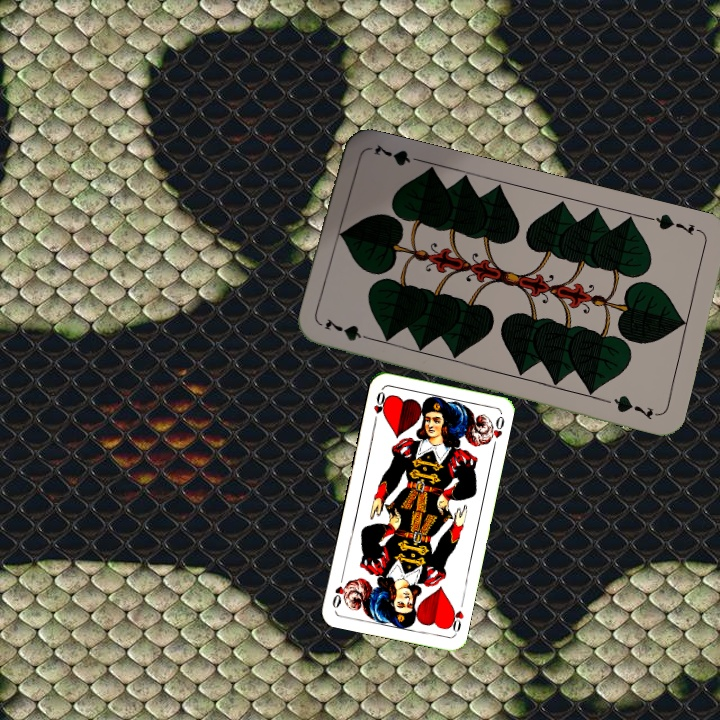G7: (646, 210, 705, 238), (321, 317, 379, 344)
HO: (444, 596, 466, 636), (370, 388, 389, 427)
